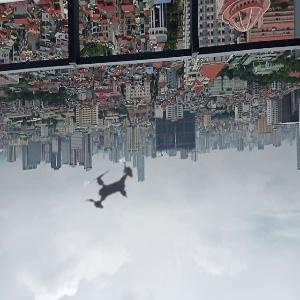drone: (65, 143, 157, 235)
